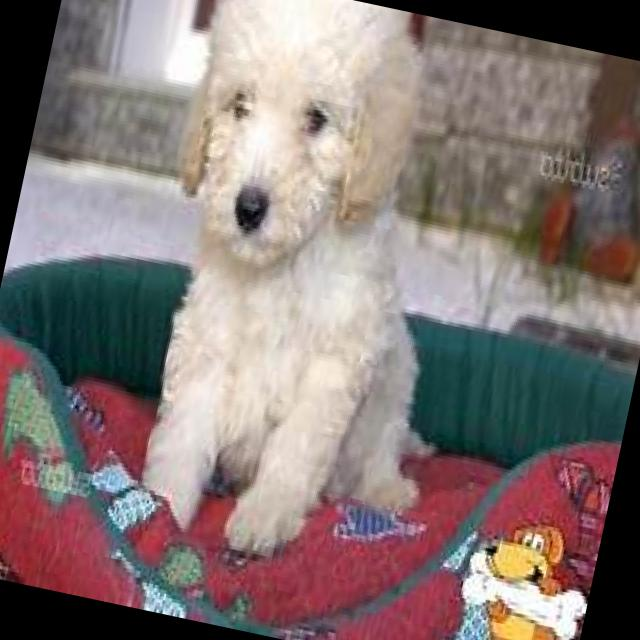dog: (33, 0, 495, 640)
